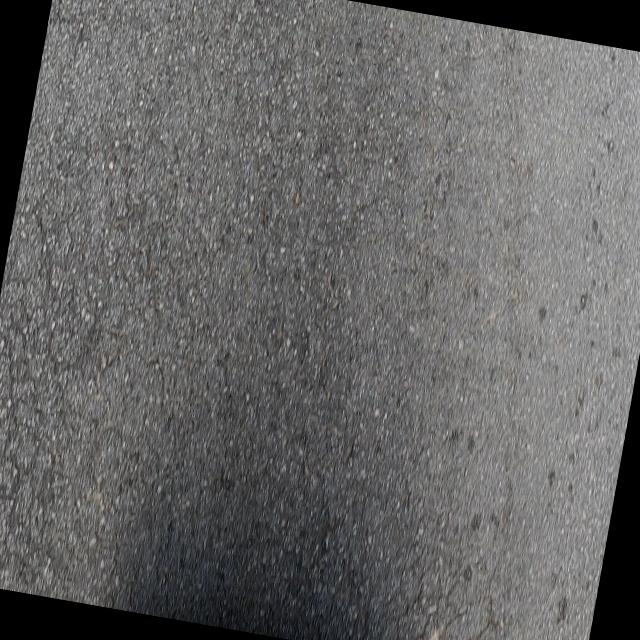Retak-Buaya: (0, 150, 89, 594)
